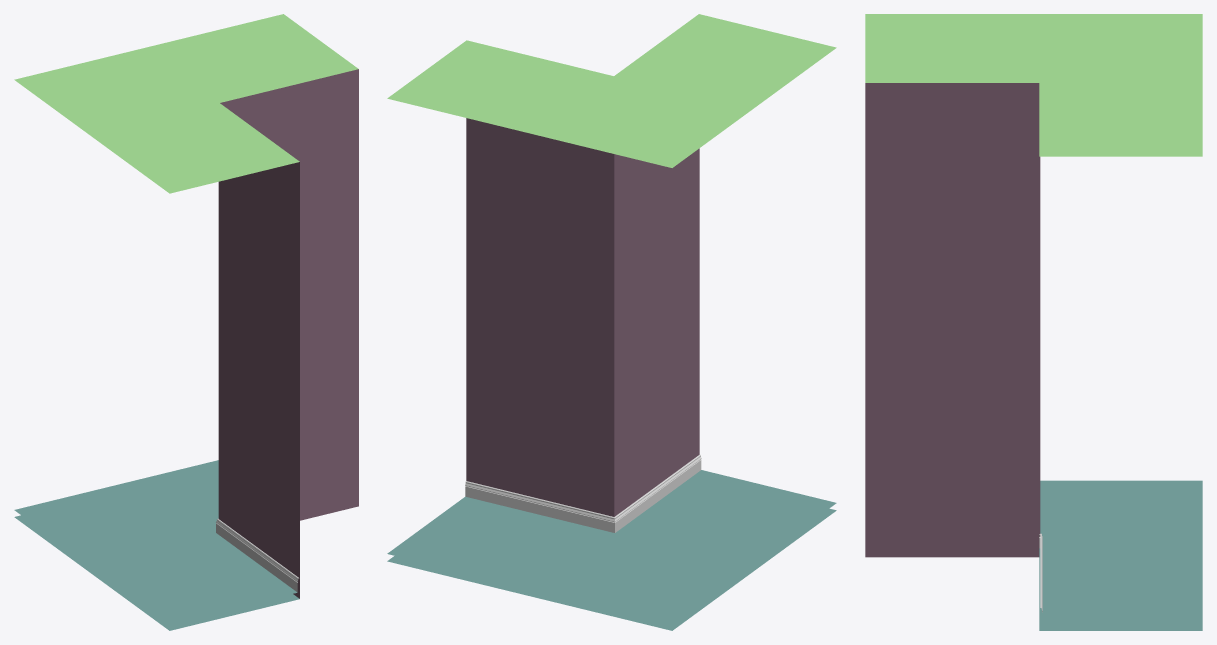
File: Room_wall_1x1_corner_out.fbx
3 views of the same model, side by side, from view 1: azimuth 30°, elevation 25°; view 2: azimuth 150°, elevation 25°; view 3: azimuth 270°, elevation 25° (orthographic). The views are drawn at different scales.
Visible parts, largest first — view 1: Wall_1x1_corner_out; view 2: Wall_1x1_corner_out; view 3: Wall_1x1_corner_out.
Boxes of the visible parts, box(x1,y1,x2,y2) form: Wall_1x1_corner_out: box(14, 14, 358, 630); Wall_1x1_corner_out: box(387, 14, 836, 630); Wall_1x1_corner_out: box(865, 14, 1202, 630).
Size of the model in its own units: 2 by 3.1 by 2.
